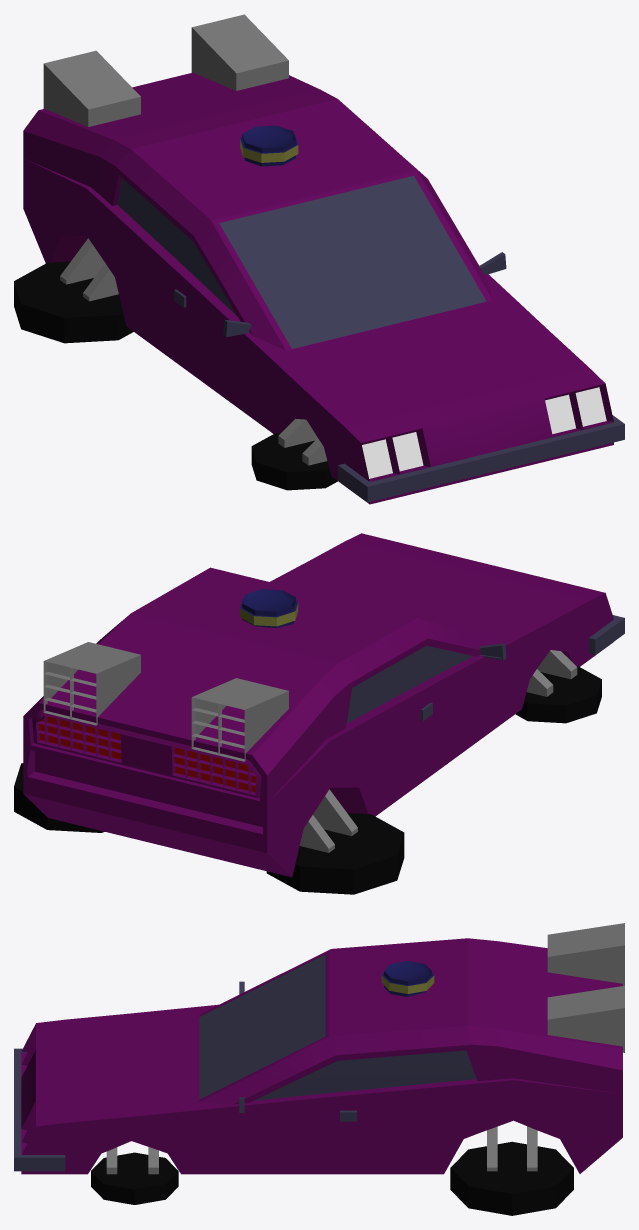
File: car_go_brrrr.fbx
3 views of the same model, one above another, from view 1: azimuth 30°, elevation 25°; view 2: azimuth 150°, elevation 25°; view 3: azimuth 270°, elevation 25° (orthographic). The views are drawn at different scales.
Parts seen in each view (by area): view 1: pCylinder18; view 2: pCylinder18; view 3: pCylinder18.
Part boxes in pixels (bbox=[...]): pCylinder18: bbox=[14, 14, 624, 504]; pCylinder18: bbox=[14, 533, 624, 894]; pCylinder18: bbox=[14, 923, 624, 1215].
Bounding box in the file's own units: 299 × 149 × 484.
